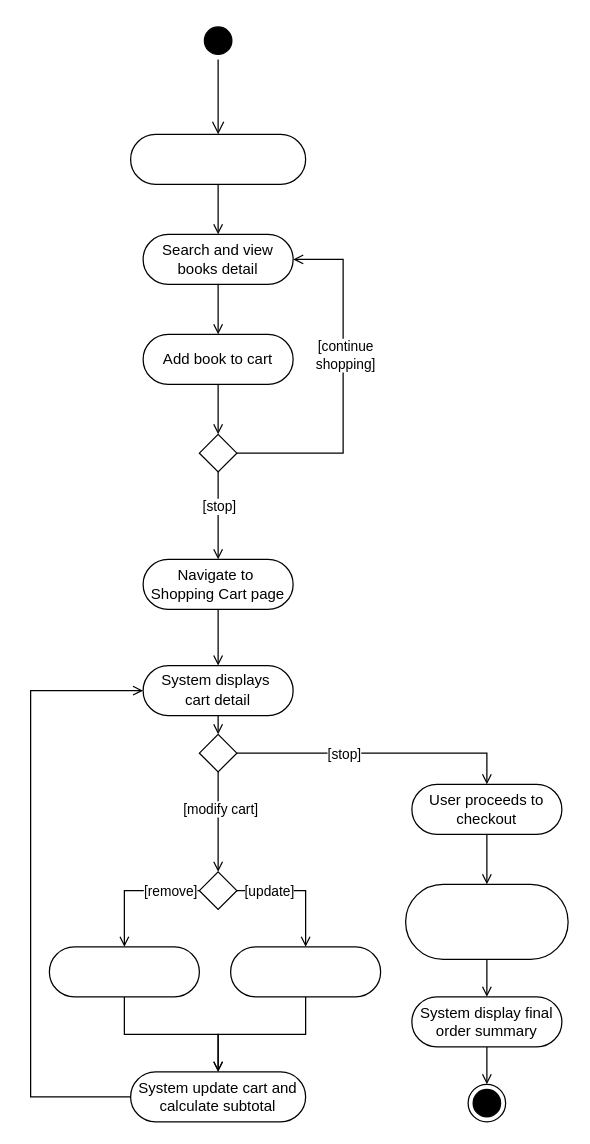
Image size: 590x1144. Some labels were removed from this diagram. Here are the shapes that lost their labels. From the top down, the box of each, then its label:
(129, 133, 306, 184): Access the website main page and login
(404, 883, 568, 959): System calculate total with tax and shipping
(48, 946, 199, 997): Select item and remove from cart
(229, 946, 381, 997): Select item and update quatity
